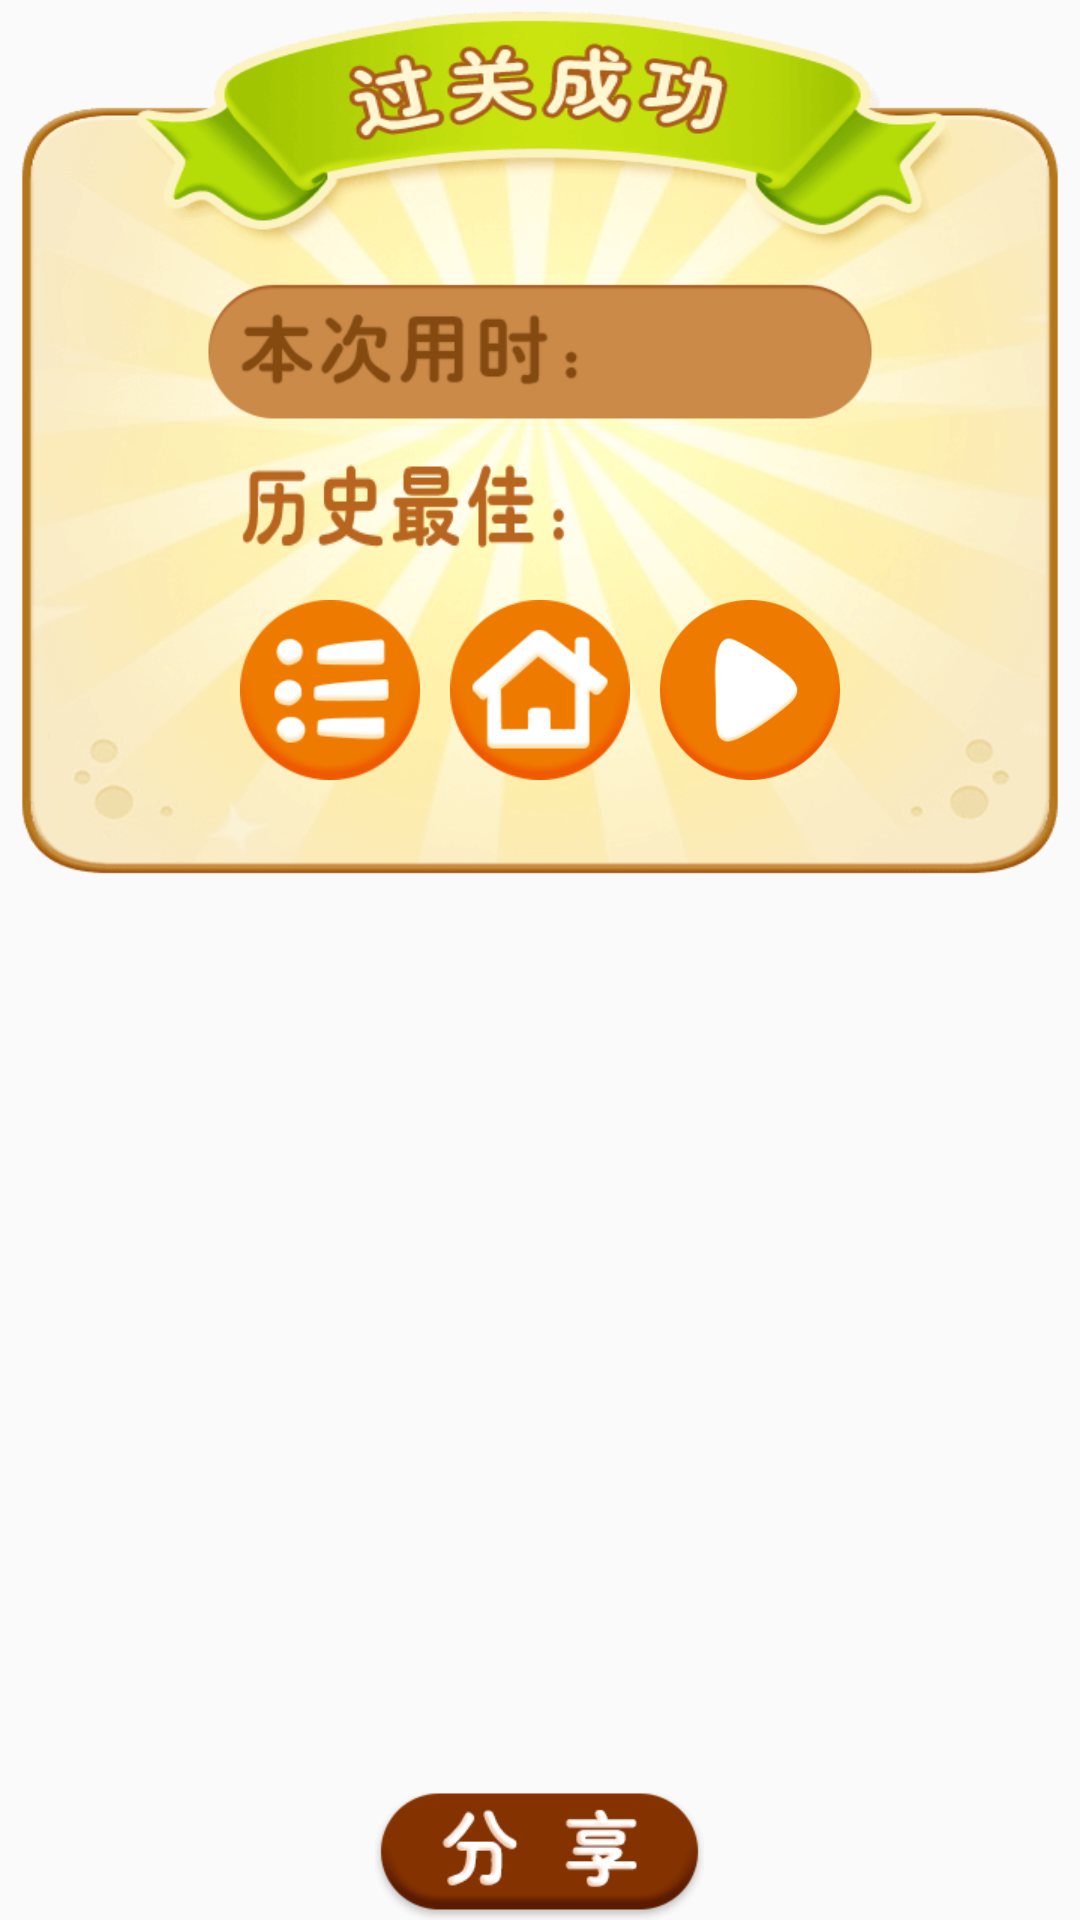

Icons on this 1080px x 1920px Android screen, each with its box as (x1, y1, x2, y2):
continue: (660, 600, 840, 780)
home: (450, 600, 630, 780)
selecthurdle: (240, 600, 420, 780)
